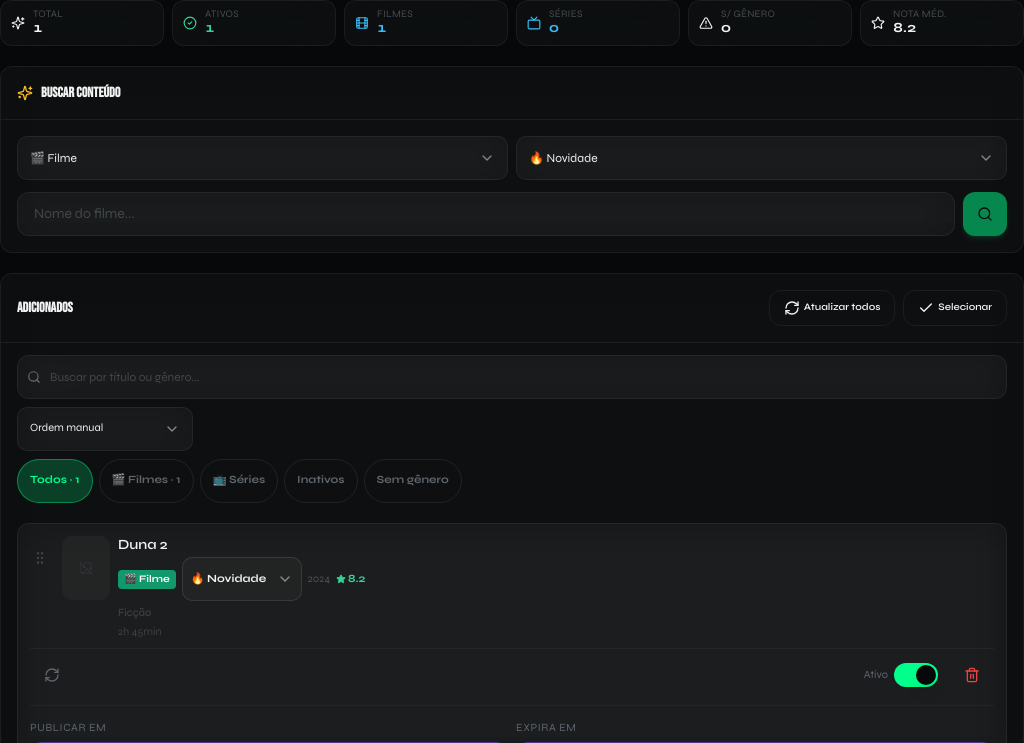
it: AdminNovidades › abre AlertDialog antes de deletar e confirma
Later steps or results of the test are not shown.
Click the button named "Remover Duna 2" at (972, 675), box [950,653,994,697]
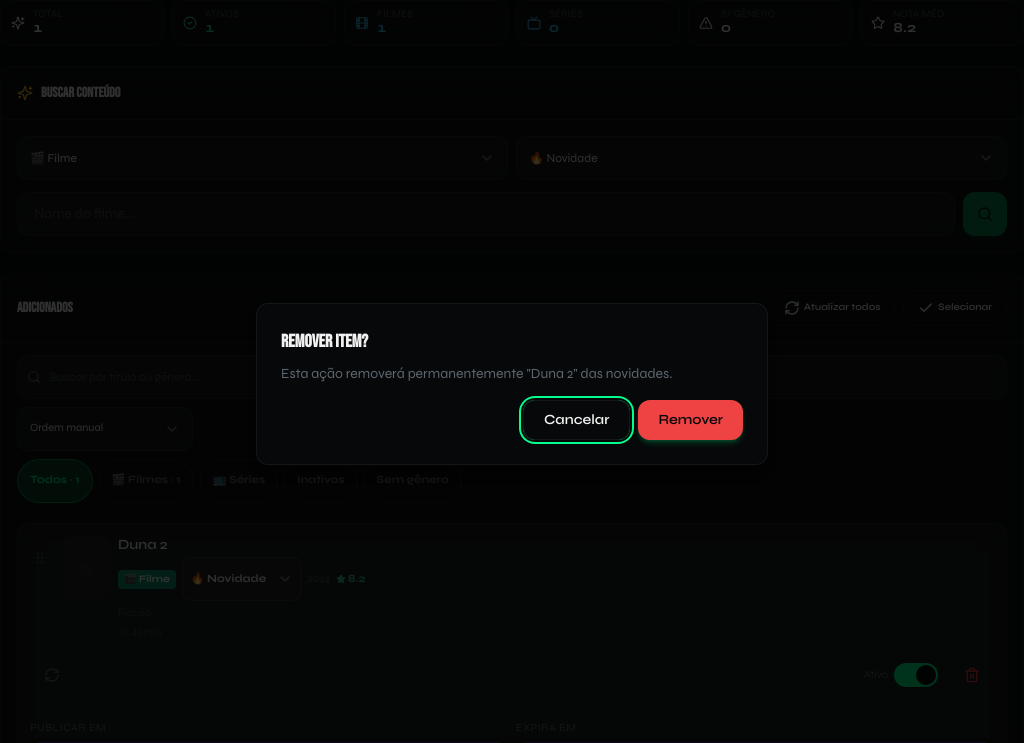
Expected: the heading "Remover item?" is shown, [281,331,368,352]
